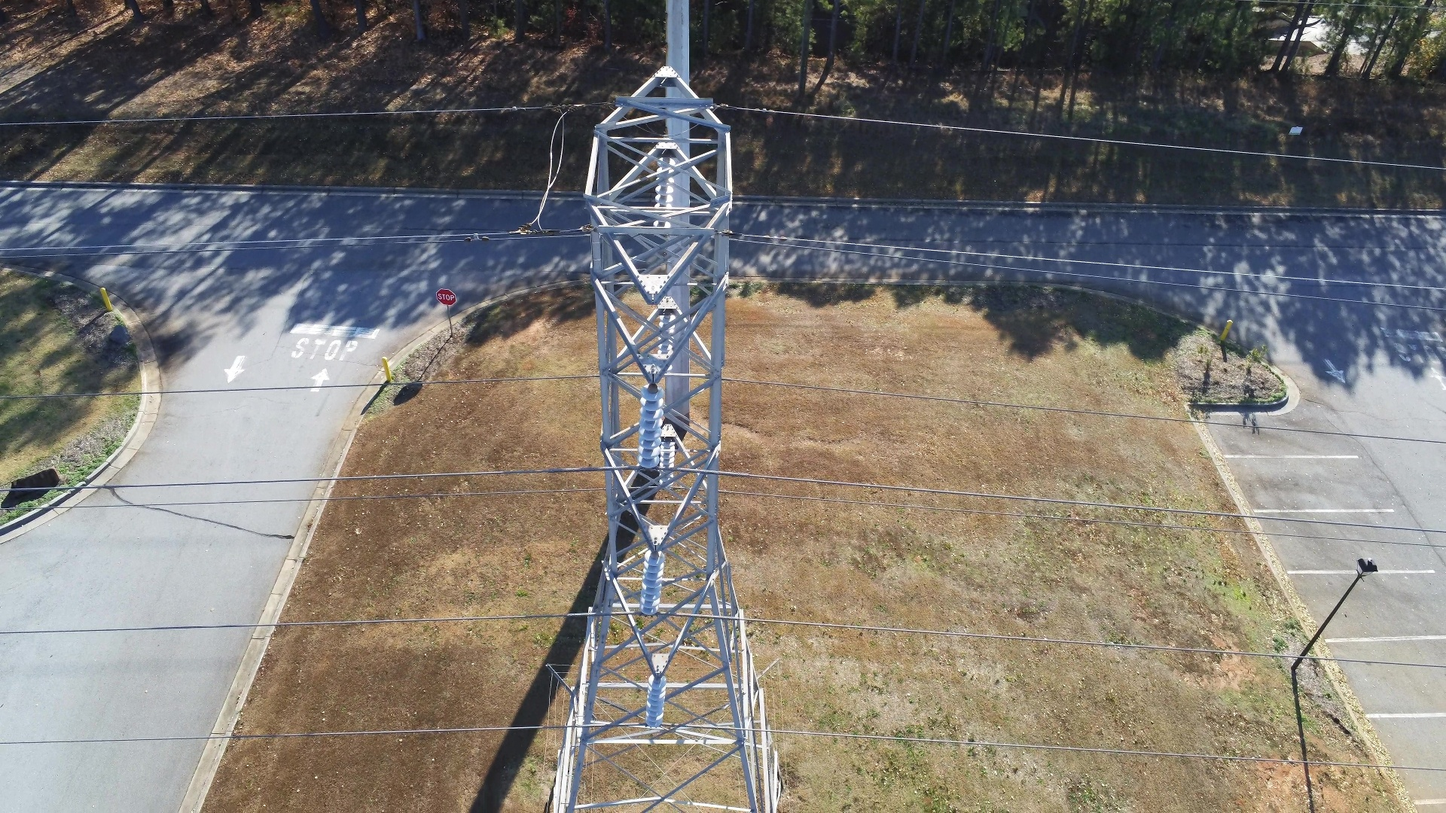insulator: (636, 384, 666, 470), (637, 550, 665, 617), (651, 155, 676, 230), (642, 674, 667, 729), (656, 313, 678, 373), (658, 440, 676, 488)
